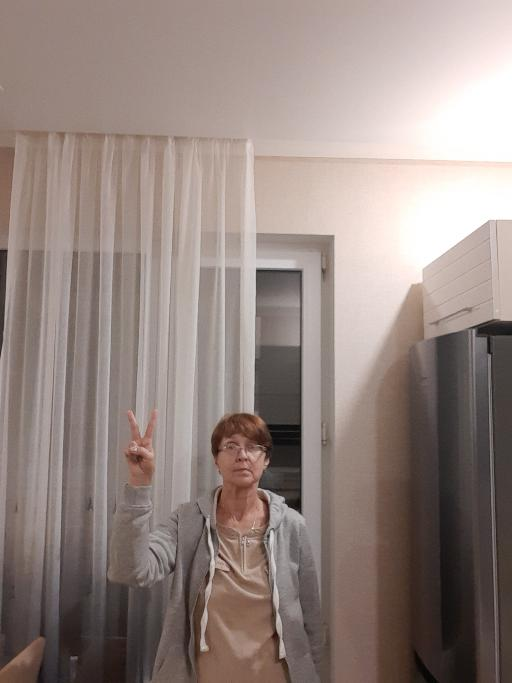peace: (121, 407, 160, 483)
